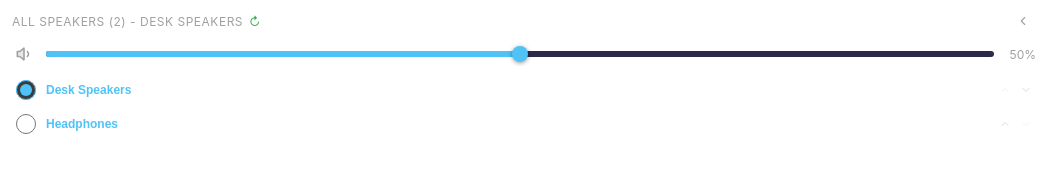
Test case: VolumeControl › cancels an output rename on Escape
Click the button titled "Rename USB Headphones": click(82, 124) x1=46 y1=114 x2=991 y2=134
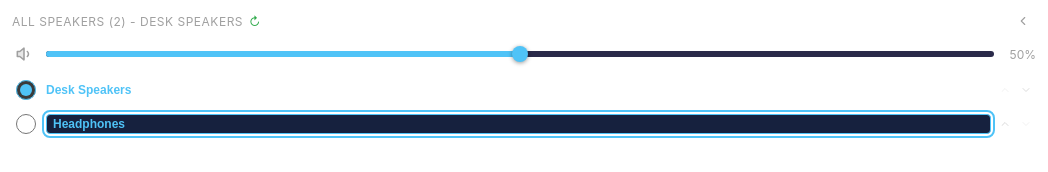
In the field: (518, 124) x1=46 y1=114 x2=991 y2=134, type " changed"
Then press Escape
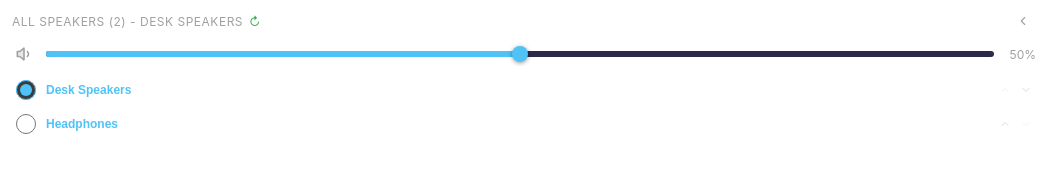
expect the button titled "Rename USB Headphones" is shown: met, box x1=46 y1=114 x2=991 y2=134
